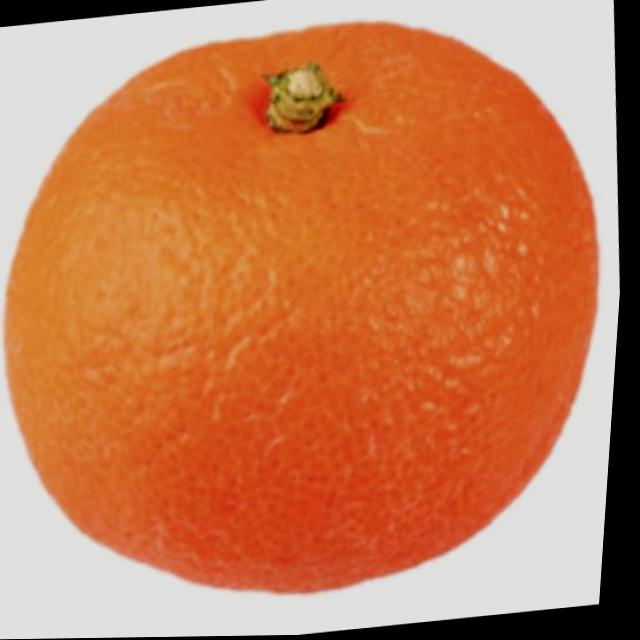Orange: (0, 0, 640, 625)
